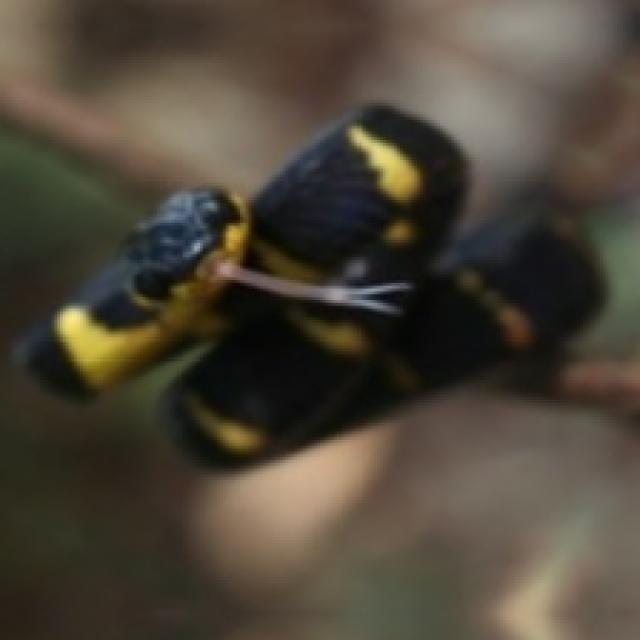mangrove cat snake: (14, 106, 603, 463)
